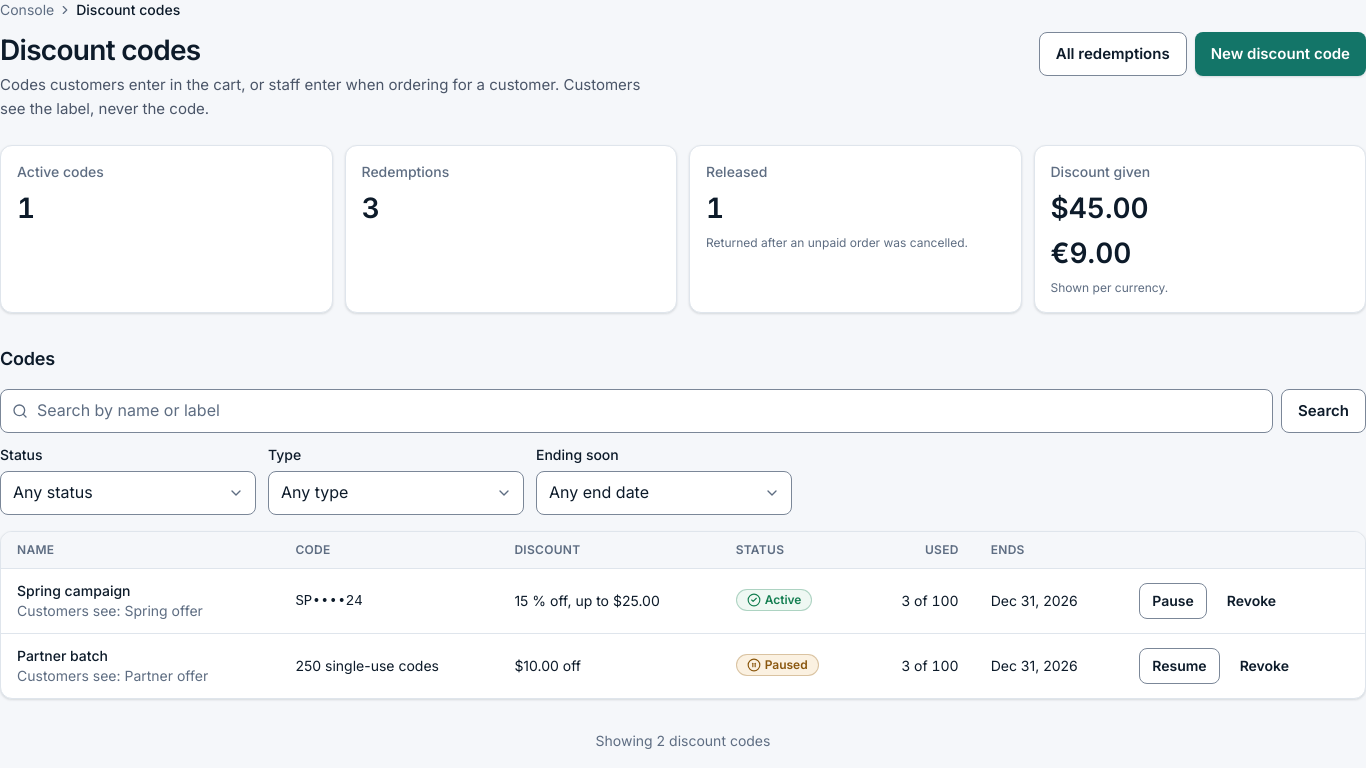
Scenario: Discount codes list › when the changed row leaves a filtered list, focus lands on the results heading
Click the button with aria-label "Revoke Spring campaign".
click(1251, 601)  # box [1215,583,1288,619]
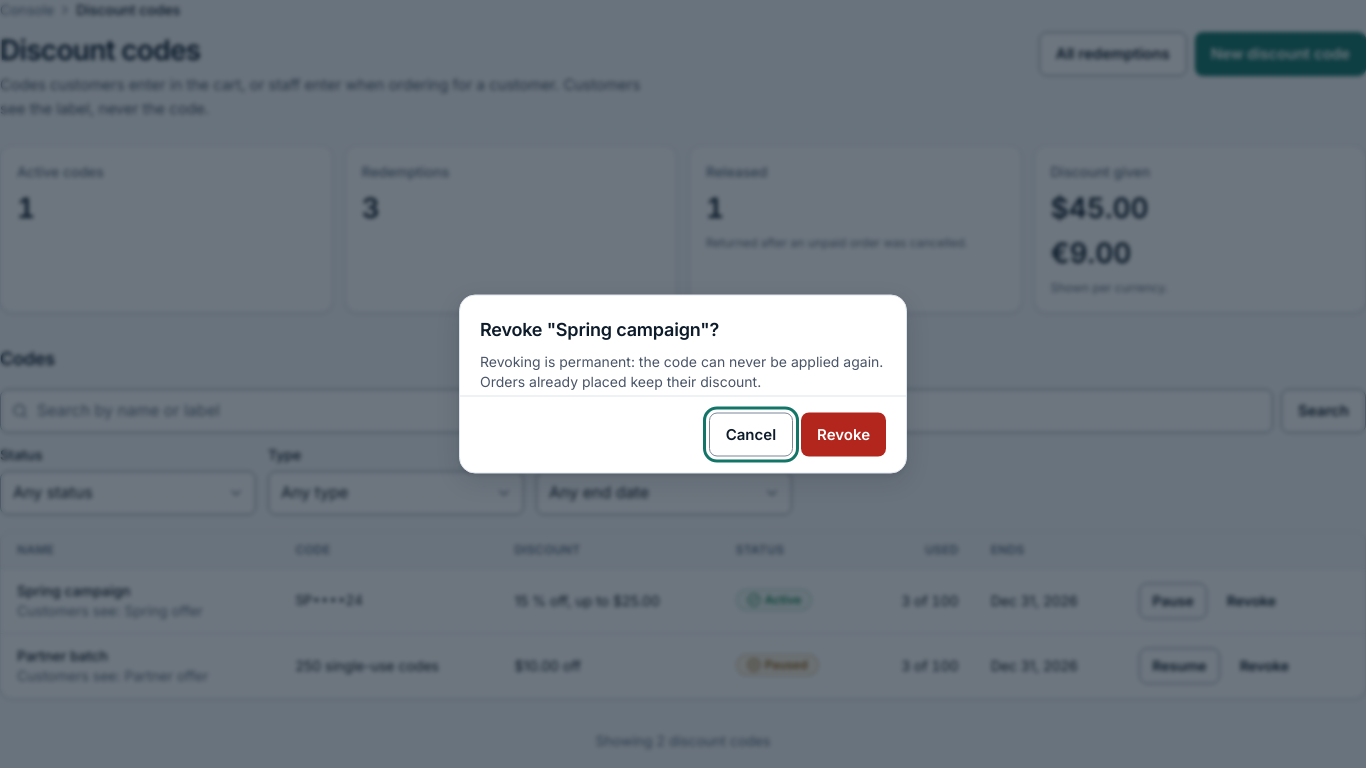
Click the button "Revoke".
click(844, 434)  # box [801,412,886,456]
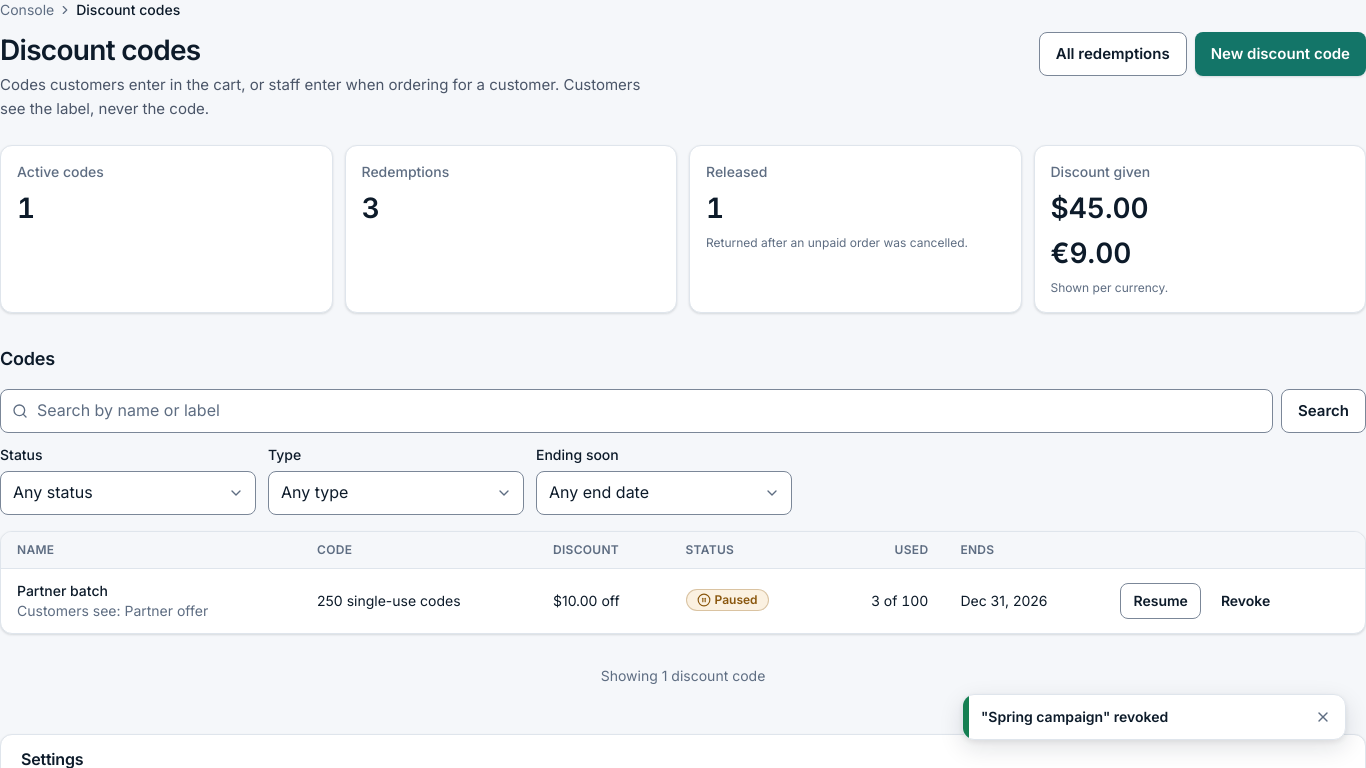
expect the dialog is gone: met
